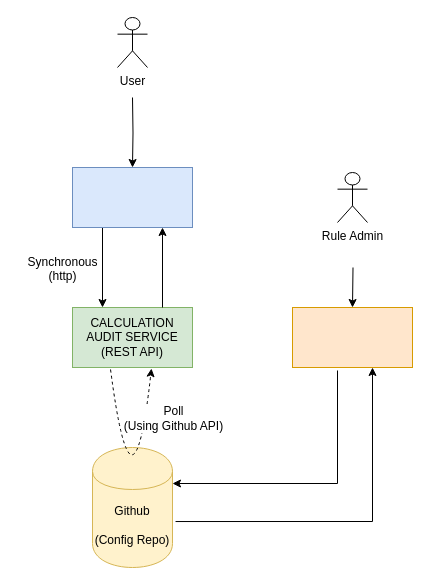
Image size: 430x585. Some labels were removed from this diagram. The shapes that lost their labels are listed below. From the top down, each one's box as (x1, y1, x2, y2) in pixels, then its label:
(72, 166, 192, 228): CLIENT (Desktop/Mobile)
(292, 306, 412, 368): IDE/Github Web
